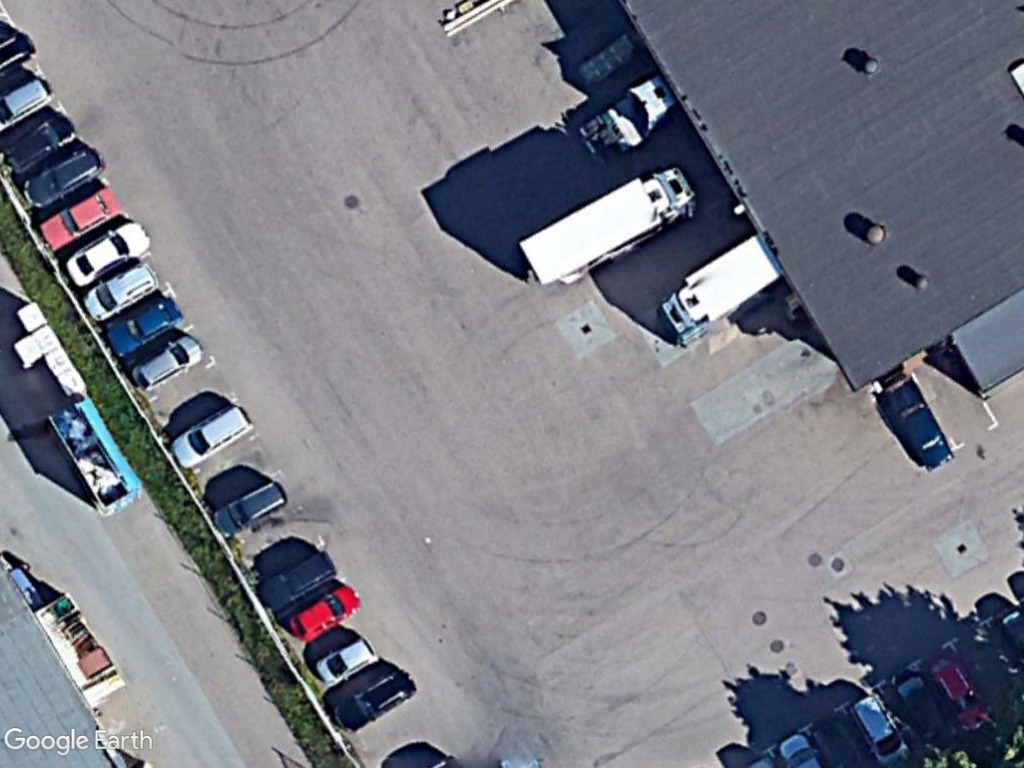car: (166, 397, 259, 473), (63, 215, 155, 291), (19, 145, 107, 214), (330, 667, 417, 736), (80, 257, 163, 326), (40, 186, 122, 252), (0, 107, 78, 175), (128, 329, 206, 397), (106, 294, 186, 358), (212, 477, 290, 541), (285, 583, 366, 644), (311, 631, 385, 692)
truck: (506, 159, 703, 298), (654, 232, 785, 355)
